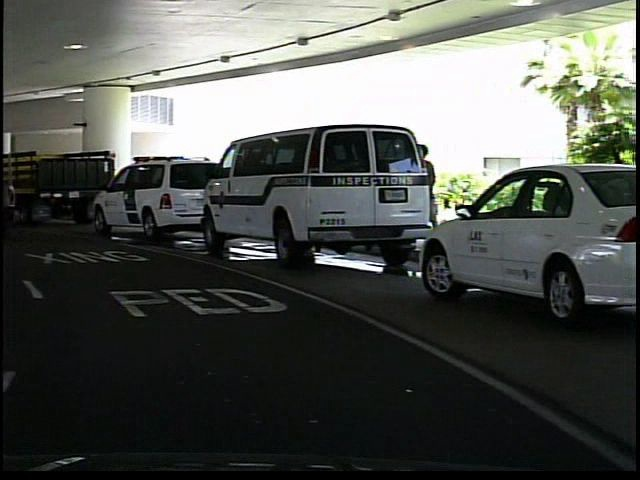person: (399, 138, 435, 255)
